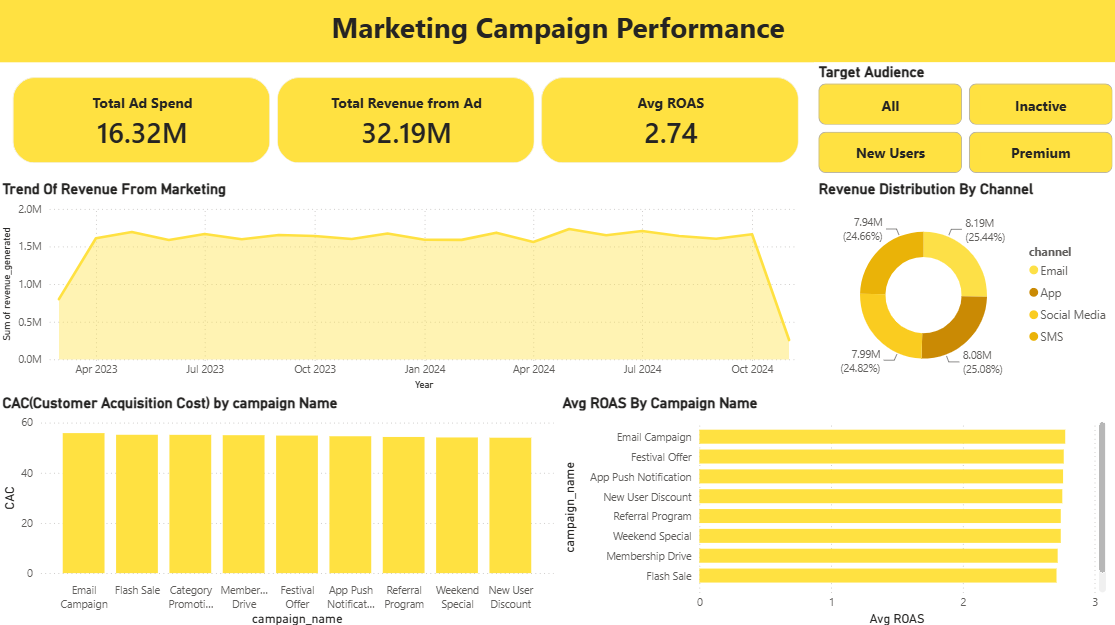

This screenshot's page, from the dashboard's own definition file:
{"tool":"powerbi","page":{"name":"Marketing Campaign Performance","canvas":[1280,720],"ordinal":3},"visuals":[{"type":"cardVisual","fields":{"Data":["marketing_performance.Total Spend","marketing_performance.Total Ad Revenue","marketing_performance.Avg ROAS"]},"box":[0,71.4,932.9,132.9],"z":0},{"type":"lineChart","title":"Trend Of Revenue From Marketing","fields":{"Category":["marketing_performance.date.Variation.Date Hierarchy.Year","marketing_performance.date.Variation.Date Hierarchy.Month"],"Y":["marketing_performance.Total Ad Spend"]},"box":[0,205,933.3,245],"z":1000},{"type":"textbox","box":[0,0,1280.3,71.4],"z":2000},{"type":"columnChart","title":"CAC(Customer Acquisition Cost) by campaign Name ","fields":{"Category":["marketing_performance.campaign_name"],"Y":["marketing_performance.CAC"]},"box":[0,450,640,270],"z":3000},{"type":"clusteredBarChart","title":"Avg ROAS By Campaign Name","fields":{"Y":["marketing_performance.Avg ROAS"],"Category":["marketing_performance.campaign_name"]},"box":[640,450,631.4,270],"z":4000},{"type":"donutChart","title":"Revenue Distribution By Channel","fields":{"Category":["marketing_performance.channel"],"Y":["marketing_performance.Total Revenue from Ad"]},"box":[932.9,205.7,347.1,244.3],"z":5000},{"type":"advancedSlicerVisual","title":"Target Audience","fields":{"Values":["marketing_performance.target_audience"]},"box":[932.9,71.4,347.1,132.9],"z":6000}]}

Visuals, with their boxes in screenshot pixels (x1, y1, x2, y2), scaled from the page's 1280x720 canvas onto the 1115x625 screenshot:
cardVisual - marketing_performance.Total Spend x marketing_performance.Total Ad Revenue: <bbox>0, 62, 813, 177</bbox>
"Trend Of Revenue From Marketing" lineChart: <bbox>0, 178, 813, 391</bbox>
textbox: <bbox>0, 0, 1114, 62</bbox>
"CAC(Customer Acquisition Cost) by campaign Name " columnChart: <bbox>0, 391, 558, 624</bbox>
"Avg ROAS By Campaign Name" clusteredBarChart: <bbox>558, 391, 1108, 624</bbox>
"Revenue Distribution By Channel" donutChart: <bbox>813, 179, 1114, 391</bbox>
"Target Audience" advancedSlicerVisual: <bbox>813, 62, 1114, 177</bbox>
